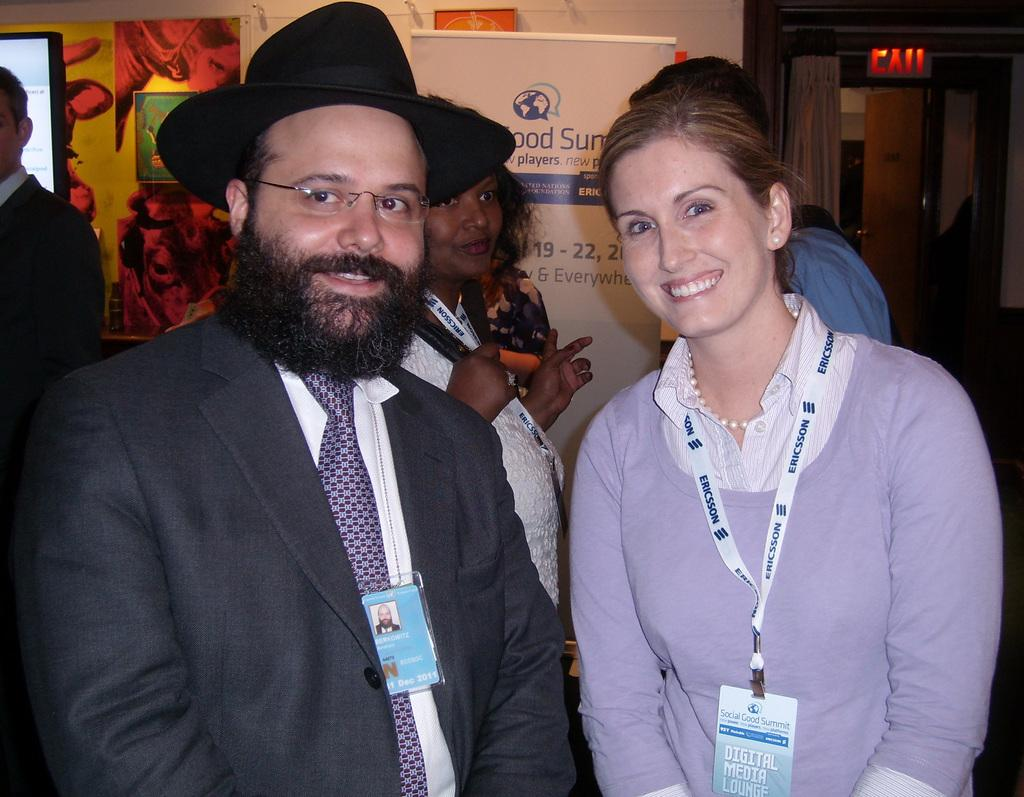Hat: (152, 0, 516, 217)
